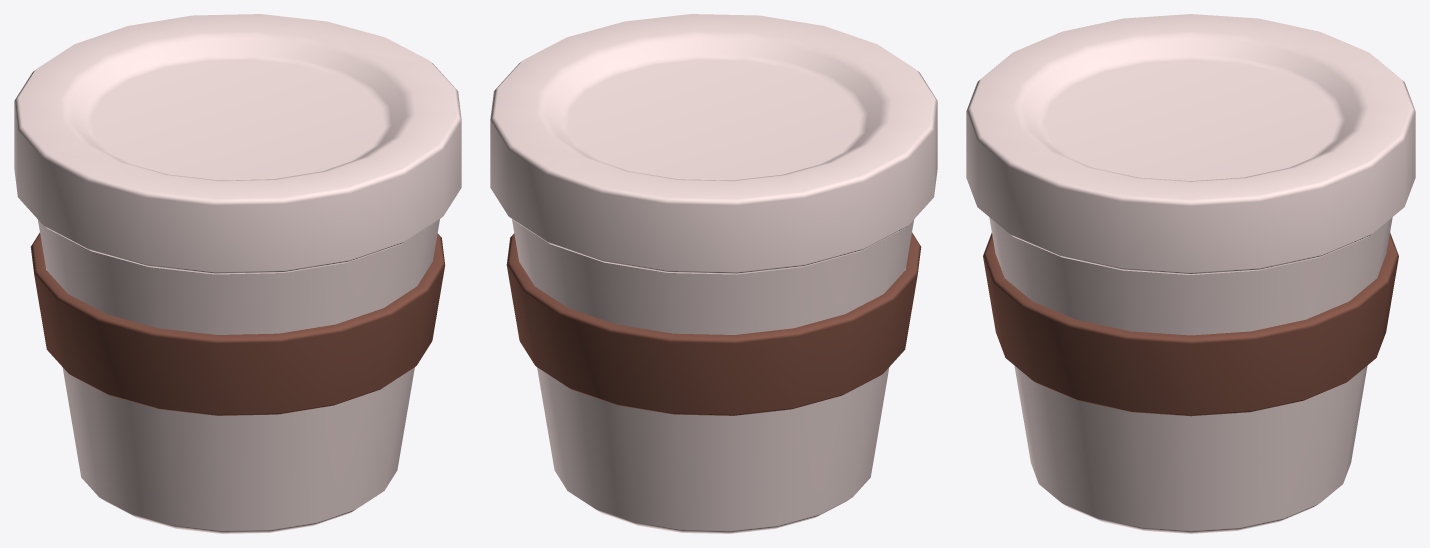
Rendered from City_2_Cup_1.glb.
3 renders of one model, left to right at view 1: azimuth 30°, elevation 25°; view 2: azimuth 150°, elevation 25°; view 3: azimuth 270°, elevation 25°, orthographic.
Visible parts, largest first — view 1: City_2_Cup_1; view 2: City_2_Cup_1; view 3: City_2_Cup_1.
Boxes of the visible parts, x1=… form: City_2_Cup_1: x1=14, y1=14, x2=461, y2=533; City_2_Cup_1: x1=490, y1=14, x2=937, y2=533; City_2_Cup_1: x1=966, y1=14, x2=1415, y2=533.
Size of the model in its own units: 0.2777 by 0.2478 by 0.2777.
Materials: 1 (1 with a texture image).
